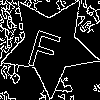F: (24, 20, 66, 73)
